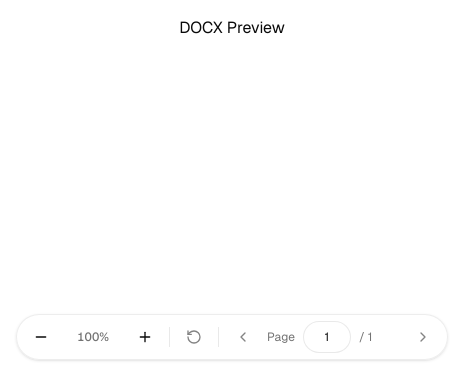
Scenario: file space preview pane › renders docx previews in-app
Check: the text "DOCX Preview" is shown, box [179, 16, 285, 40]
Check: the element named "Document preview" is shown, box [179, 17, 285, 38]
Click the button named "Zoom in": (145, 337) [129, 321, 161, 353]
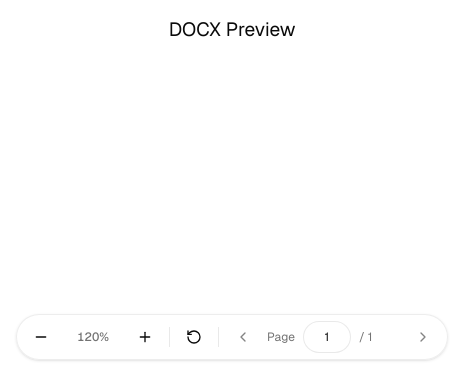
Check: the text "120%" is shown, box [77, 329, 109, 345]
Check: the button named "Reset document zoom" is enabled, box [178, 321, 210, 353]
